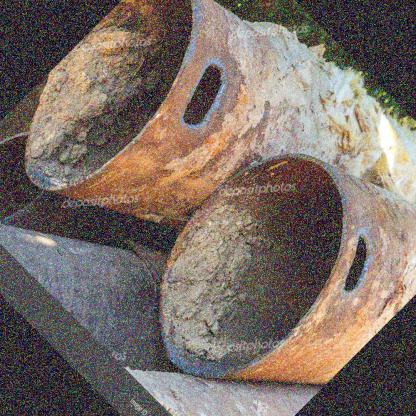burst: (180, 55, 244, 138), (343, 221, 388, 293)
